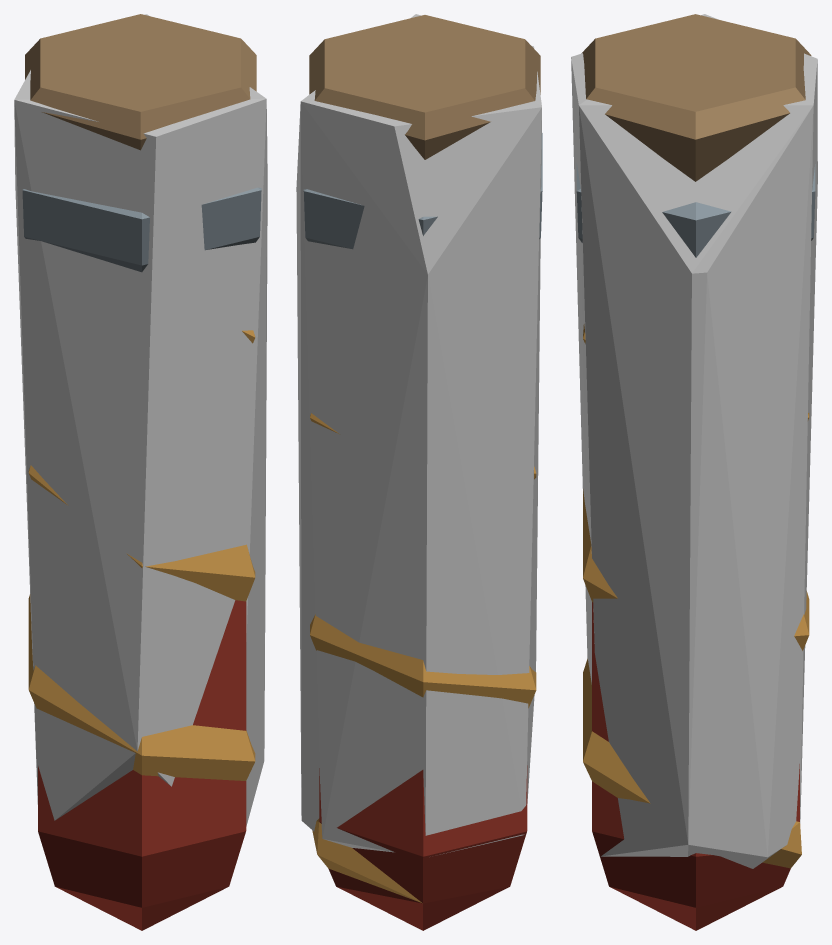
Rendered from SM_Item_TestTube_01.fbx.
3 views of the same model, side by side, from view 1: azimuth 30°, elevation 25°; view 2: azimuth 150°, elevation 25°; view 3: azimuth 270°, elevation 25° (orthographic).
Parts seen in each view (by area): view 1: SM_Item_TestTube_01_ConvexHulls, SM_Item_TestTube_01; view 2: SM_Item_TestTube_01_ConvexHulls, SM_Item_TestTube_01; view 3: SM_Item_TestTube_01_ConvexHulls, SM_Item_TestTube_01.
Part boxes in pixels (x1=…): SM_Item_TestTube_01_ConvexHulls: x1=14, y1=14, x2=267, y2=826; SM_Item_TestTube_01: x1=22, y1=14, x2=261, y2=930; SM_Item_TestTube_01_ConvexHulls: x1=296, y1=14, x2=541, y2=854; SM_Item_TestTube_01: x1=303, y1=15, x2=542, y2=930; SM_Item_TestTube_01_ConvexHulls: x1=571, y1=14, x2=817, y2=868; SM_Item_TestTube_01: x1=576, y1=14, x2=815, y2=930.
Bounding box in the file's own units: 6.73 × 5.83 × 22.6.
Materials: 2 (1 with a texture image).
